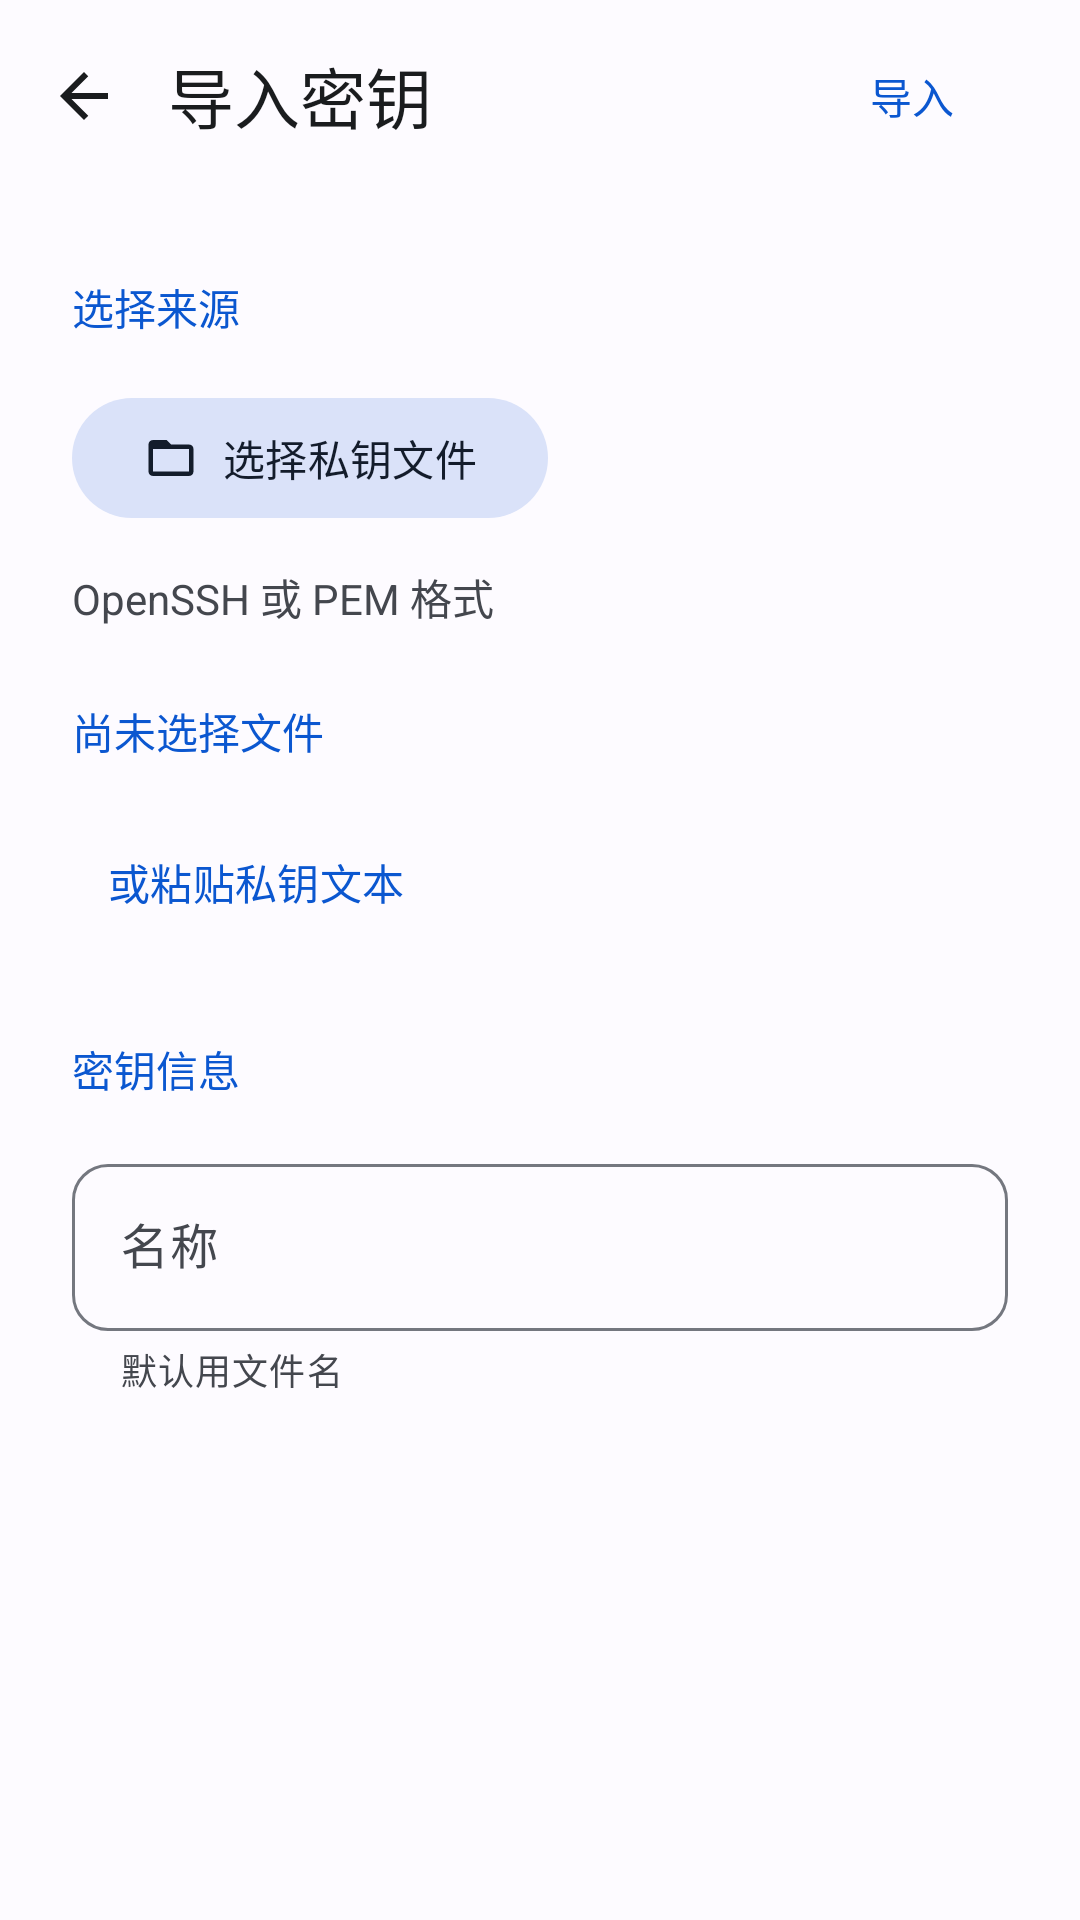

Where icons sit on this 1080 x 1920 app screen, as (x1, y1, x2, y2):
返回: (60, 72, 108, 120)
